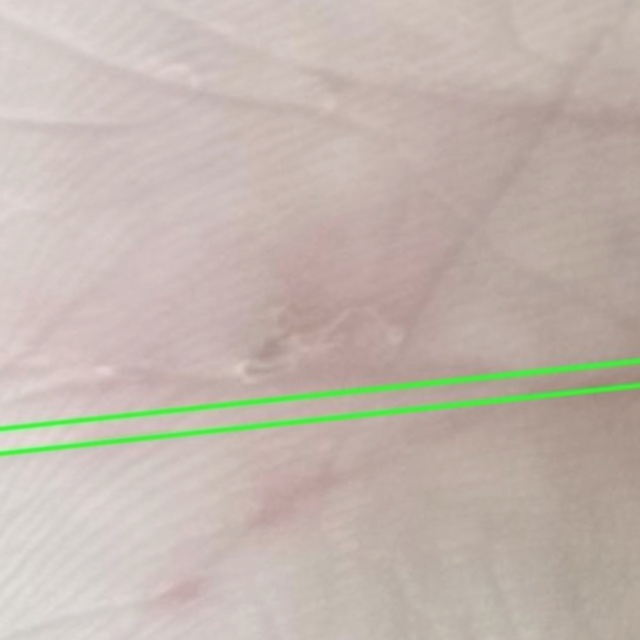Scabies: (0, 0, 639, 452), (0, 361, 639, 639)
